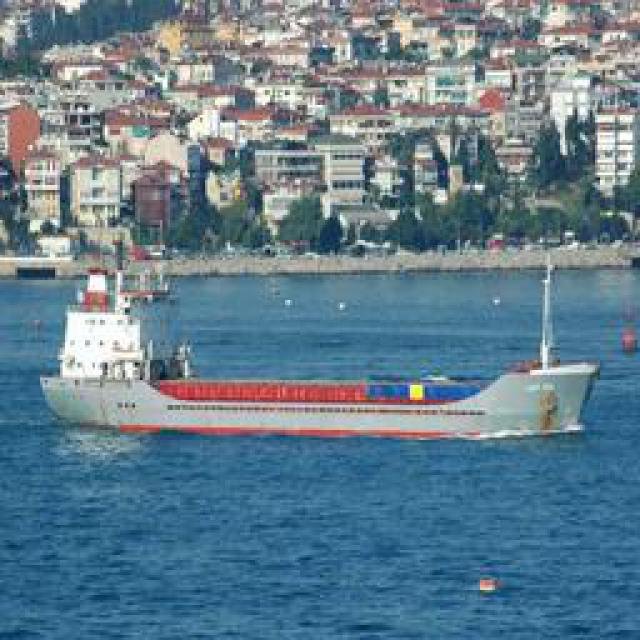Ship: (112, 360, 602, 445)
